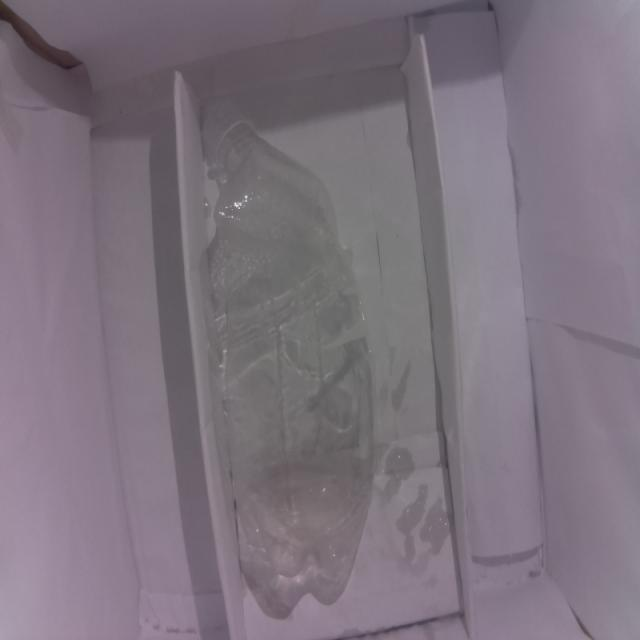Anorganik: (194, 90, 370, 594)
